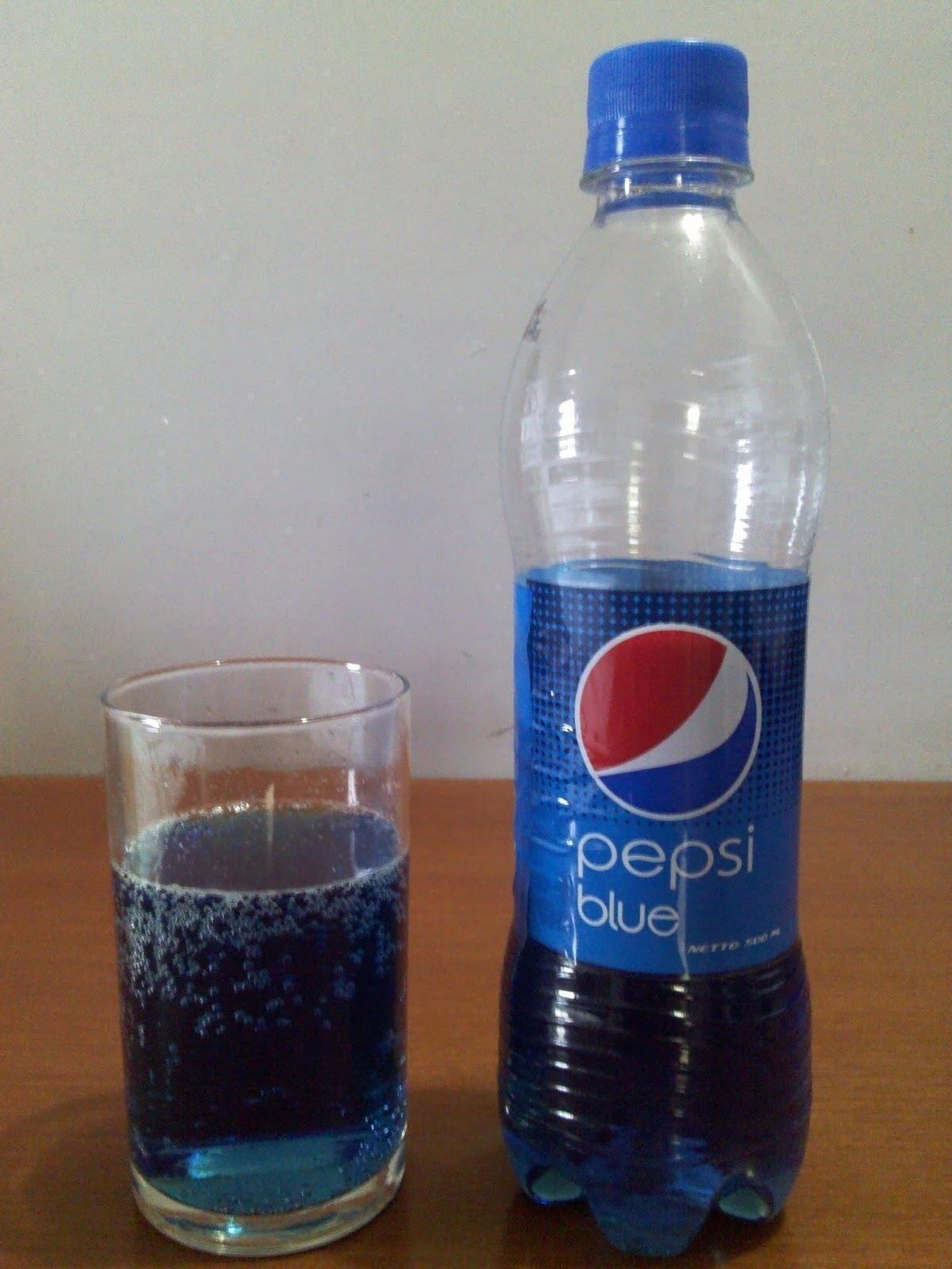bottle-plastic: (491, 27, 835, 1258)
glass-normal: (95, 653, 419, 1259)
